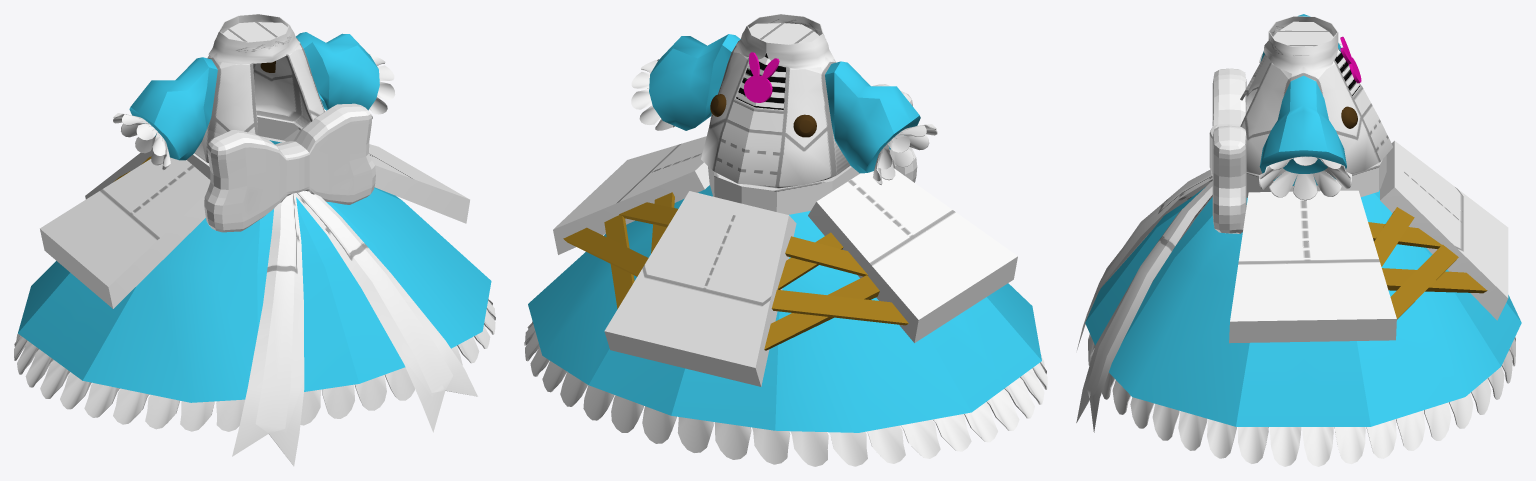
File: body.fbx
The picture shows the model from 3 angles, left to right: view 1: azimuth 30°, elevation 25°; view 2: azimuth 150°, elevation 25°; view 3: azimuth 270°, elevation 25°; orthographic projection. The views are drawn at different scales.
Visible parts, largest first — view 1: polySurface94; view 2: polySurface94; view 3: polySurface94.
Part boxes in pixels (left/top/right/bottom): polySurface94: left=14, top=14, right=495, bottom=466; polySurface94: left=524, top=14, right=1047, bottom=466; polySurface94: left=1076, top=14, right=1521, bottom=466.
Bounding box in the file's own units: 0.0429 × 0.0322 × 0.0365.
Materials: 8 (8 with a texture image).
